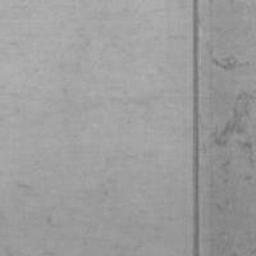Welding line: (192, 0, 201, 256)
